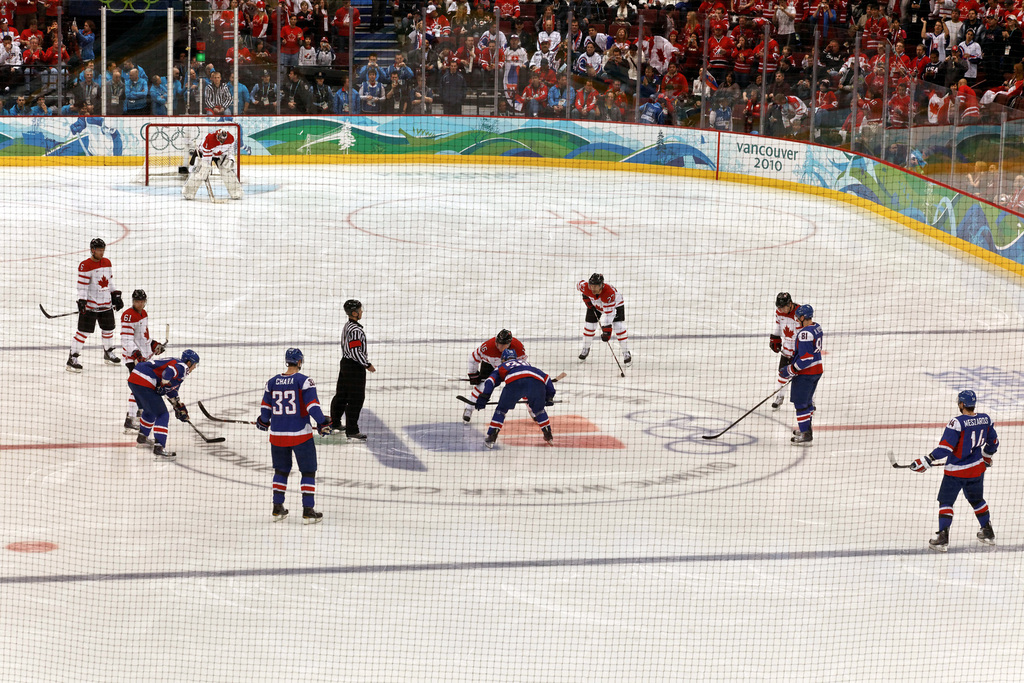Person: (0, 0, 1024, 217), (909, 387, 1000, 549), (255, 346, 331, 523), (125, 349, 200, 460), (474, 351, 556, 449), (65, 238, 123, 370), (119, 289, 166, 430), (778, 304, 825, 444), (331, 299, 376, 440), (462, 327, 526, 425), (579, 270, 633, 366), (769, 291, 804, 413)
